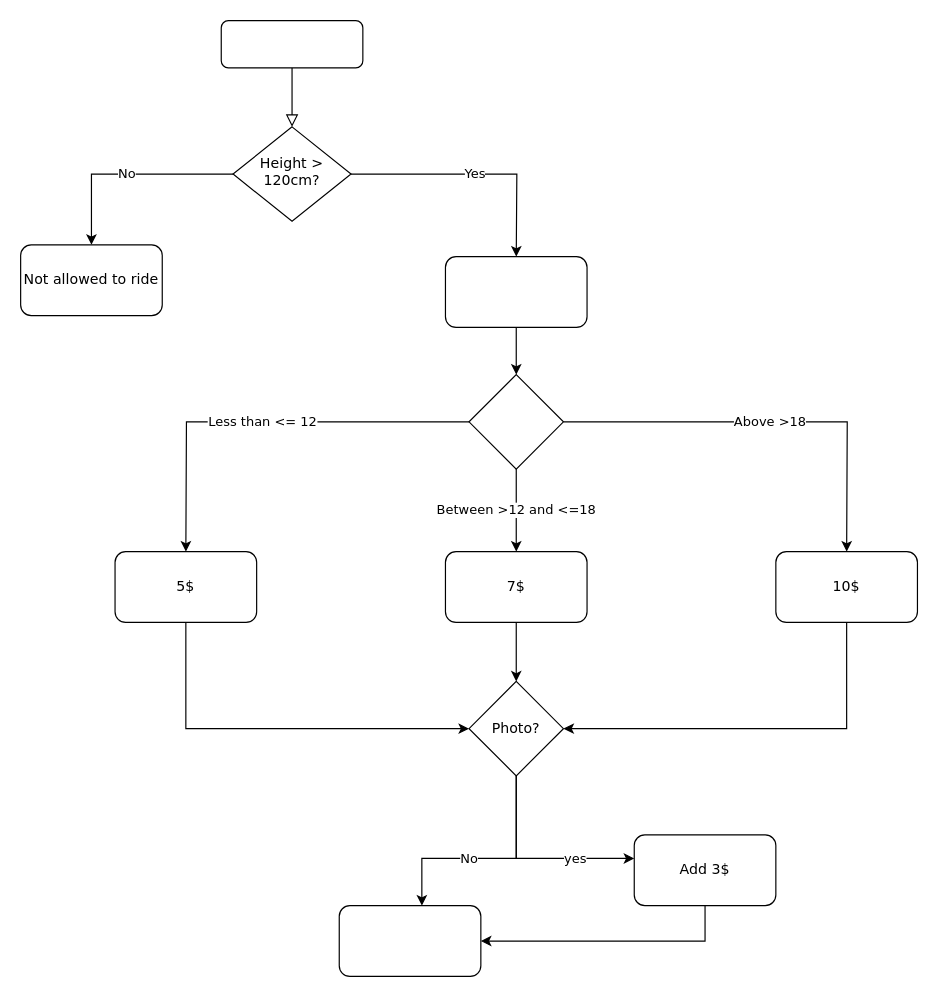
Image size: 938x997. Some labels were removed from this diagram. Each missing label, with the box of its shape:
Age?: (468, 373, 563, 469)
Can Ride: (444, 255, 587, 327)
Final Bill: (338, 904, 481, 976)
Start: (220, 19, 363, 68)
